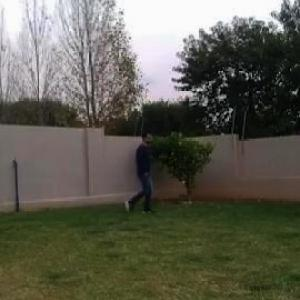follow: (134, 129, 156, 219)
